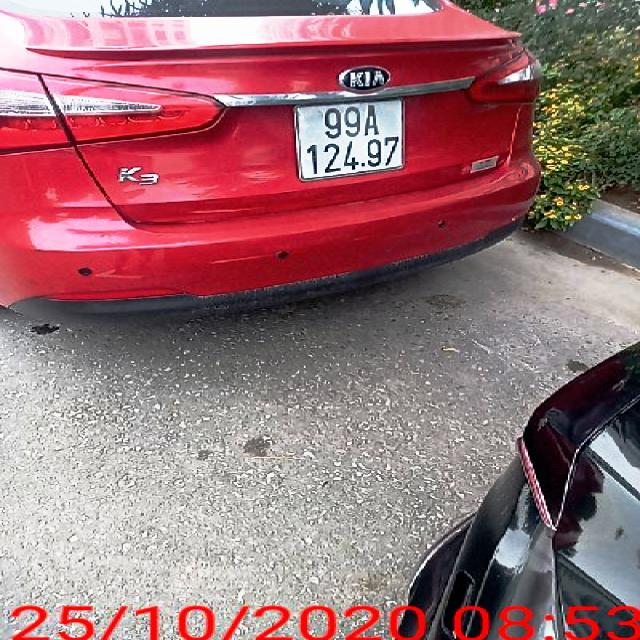license_plate: (299, 98, 405, 182)
